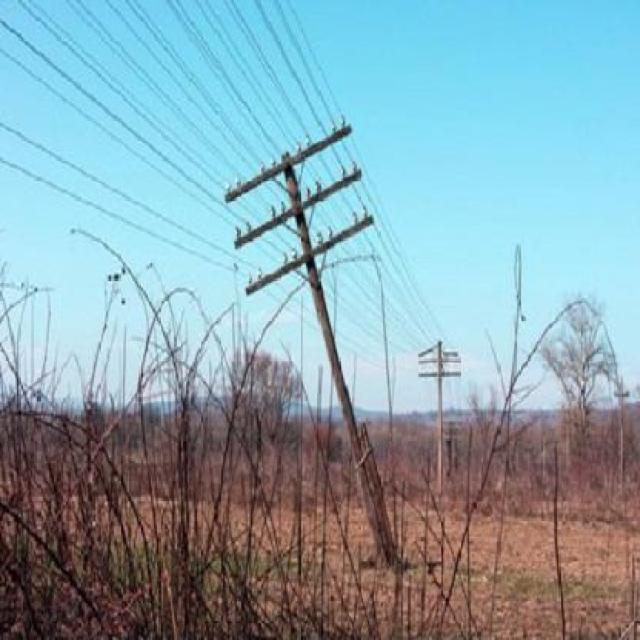light_pole: (208, 143, 454, 544)
